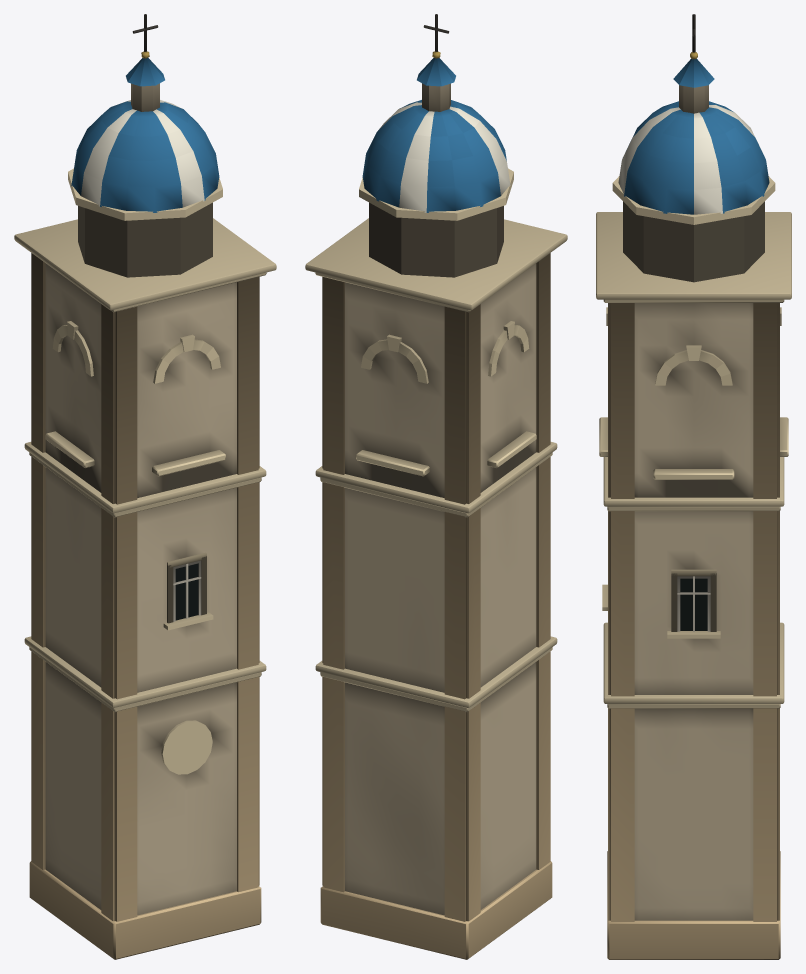
Rendered from church_tower.glb.
3 renders of one model, left to right at view 1: azimuth 30°, elevation 25°; view 2: azimuth 150°, elevation 25°; view 3: azimuth 270°, elevation 25°, orthographic.
Parts seen in each view (by area): view 1: church_tower_mesh; view 2: church_tower_mesh; view 3: church_tower_mesh.
Boxes of the visible parts, left/top/right/bottom form: church_tower_mesh: left=14, top=14, right=276, bottom=959; church_tower_mesh: left=305, top=14, right=567, bottom=959; church_tower_mesh: left=596, top=14, right=791, bottom=959.
Size of the model in its own units: 4.14 by 21.2 by 4.14.
